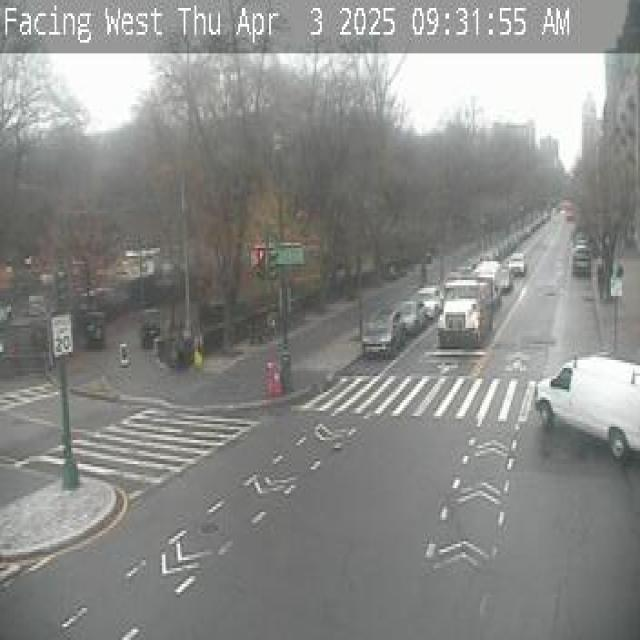parkedCars: (360, 272, 437, 360), (496, 197, 551, 256)
